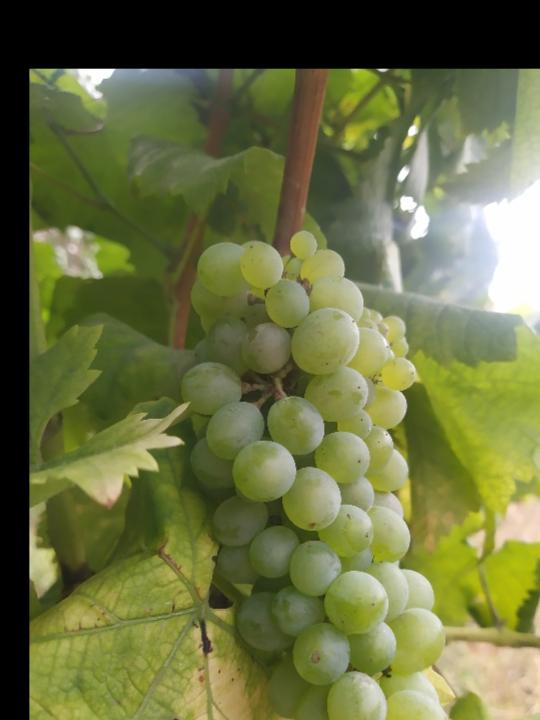grape: (177, 229, 457, 720)
